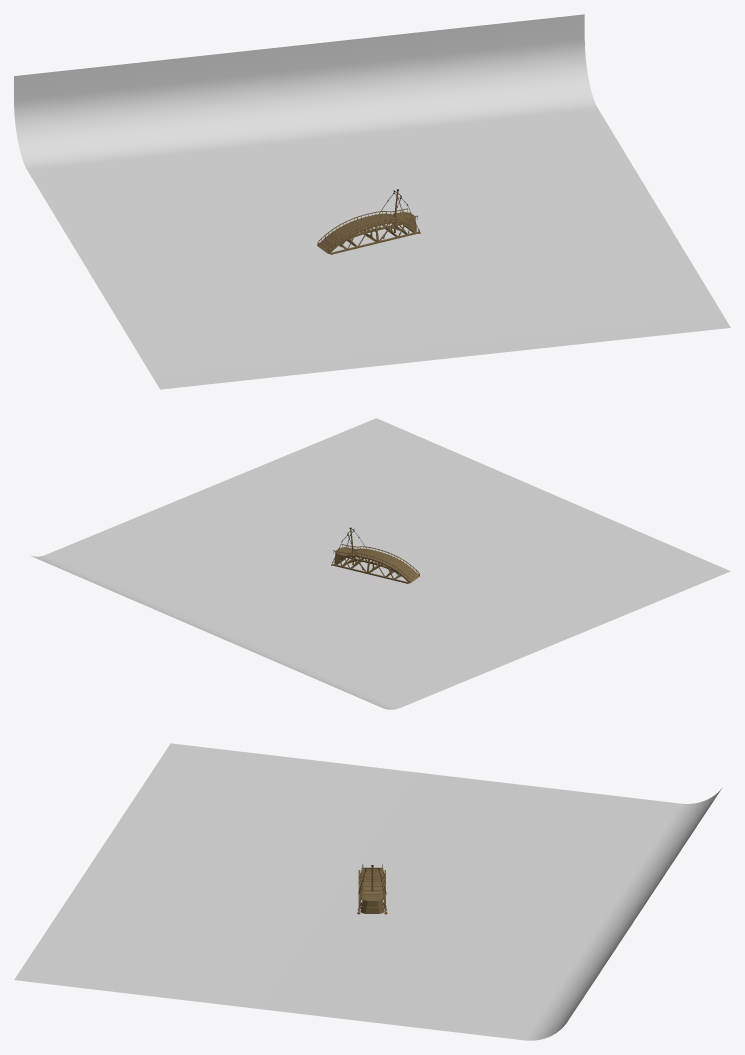
File: VinciBridge.glb
The picture shows the model from 3 angles, top to bottom: view 1: azimuth 30°, elevation 25°; view 2: azimuth 150°, elevation 25°; view 3: azimuth 270°, elevation 25°; orthographic projection. The views are drawn at different scales.
Parts seen in each view (by area): view 1: Plane, Da; view 2: Plane, Da; view 3: Plane, Da.
Part boxes in pixels (x1=…): Plane: x1=14, y1=14, x2=730, y2=389; Da: x1=317, y1=189, x2=420, y2=254; Plane: x1=31, y1=418, x2=730, y2=709; Da: x1=331, y1=527, x2=419, y2=583; Plane: x1=14, y1=743, x2=721, y2=1040; Da: x1=357, y1=864, x2=387, y2=914.
Size of the model in its own units: 56.42 by 6.25 by 56.42.
3 materials, 3 textured.
